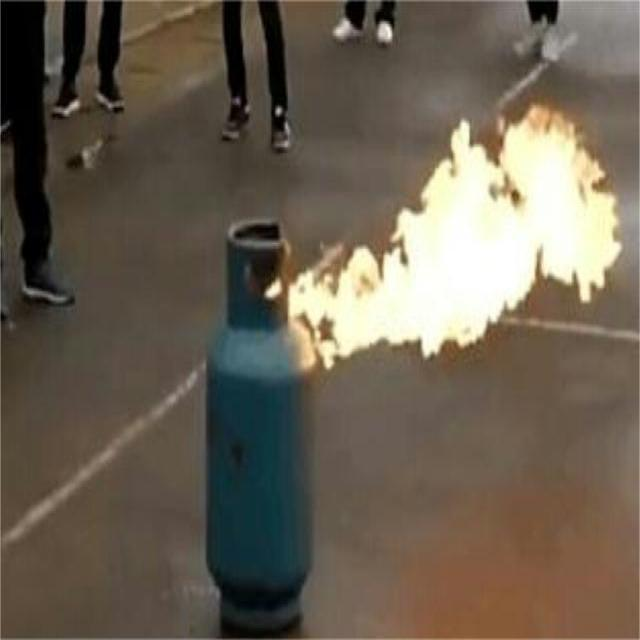Fire: (291, 106, 622, 370)
